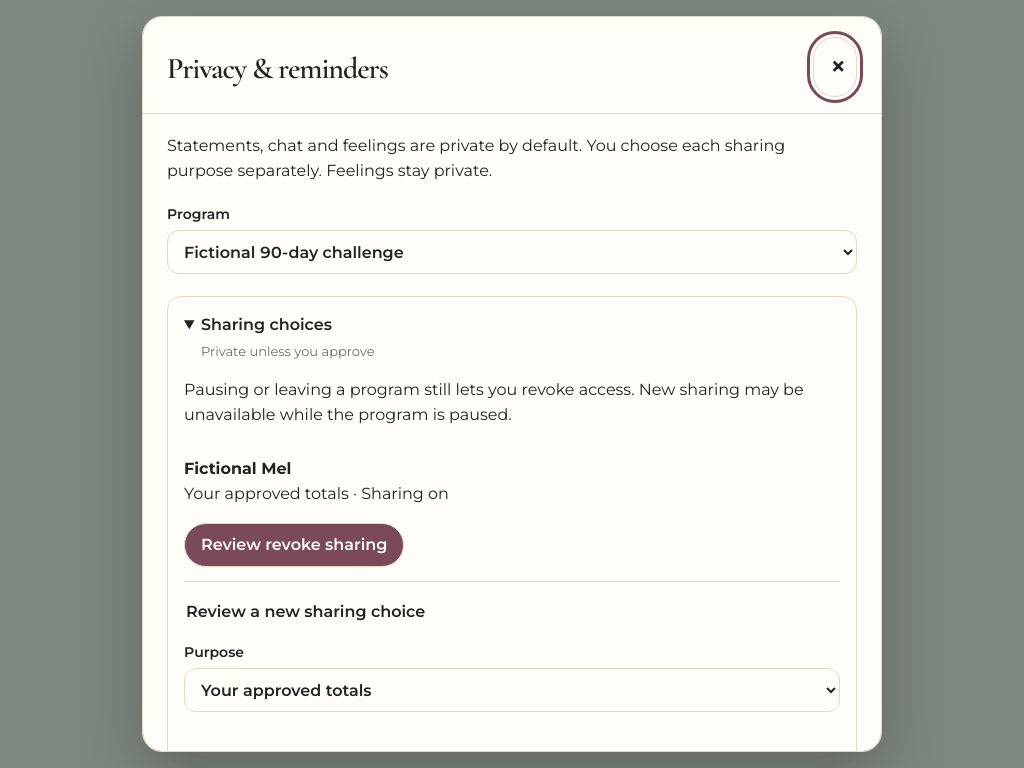
Scenario: participant privacy help and reminders › names existing sharing and revocation in plain words without changing its scope
Expected: the text "Your approved totals · Sharing on" is shown, 184,484 -> 449,503
What coordinates should you click on to do the following:
click the button "Review revoke sharing"
I would click on:
 (294, 545)
Its box is 184,523 -> 404,567.
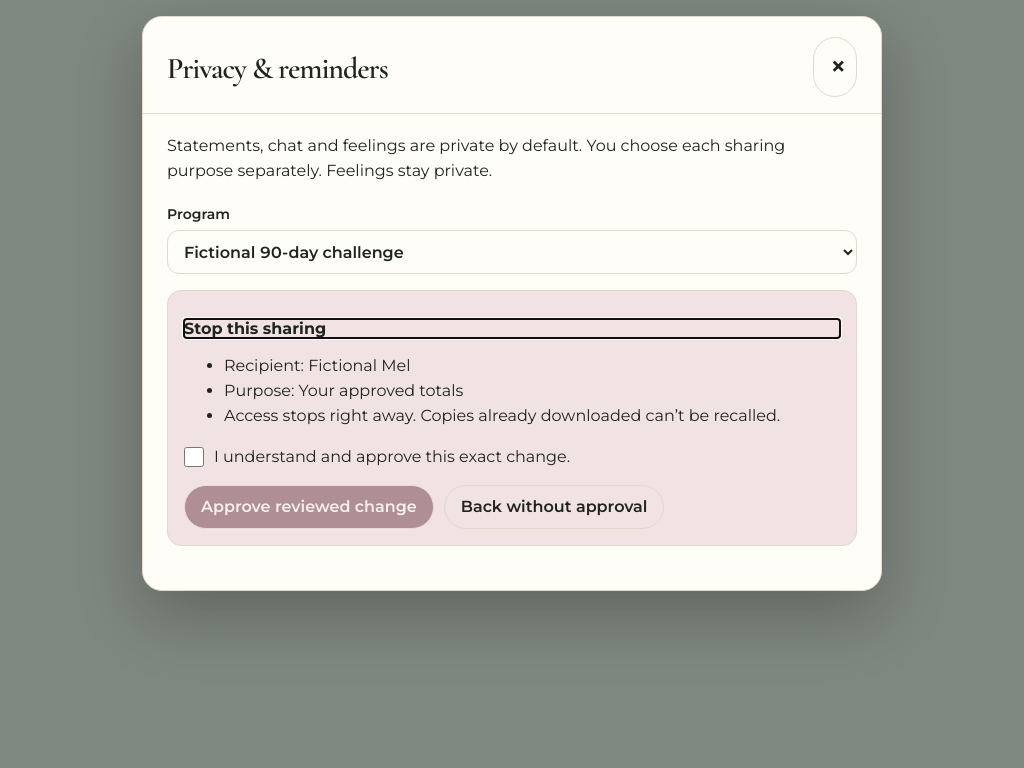
Expected: the list item "Purpose: Your approved totals" is shown, 224,381 -> 463,400
Expected: the list item "Access stops right away. Copies already downloaded can’t be recalled." is shown, 224,404 -> 840,429
Expected: the list item "Recipient: Fictional Mel" is shown, 224,356 -> 410,375
